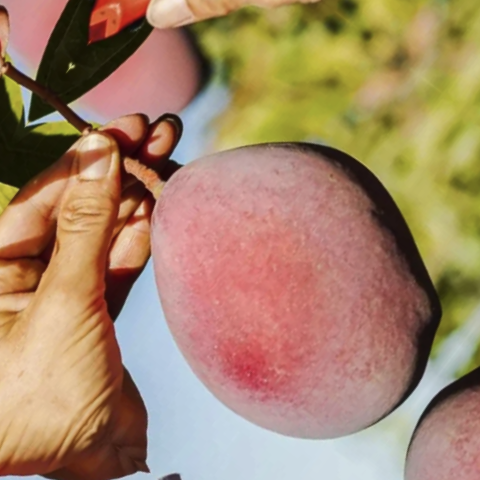mango: (56, 42, 480, 480)
